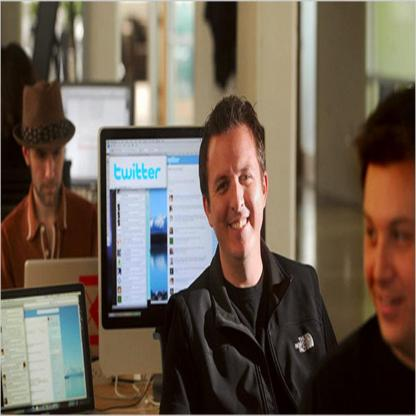board: (25, 255, 99, 358)
